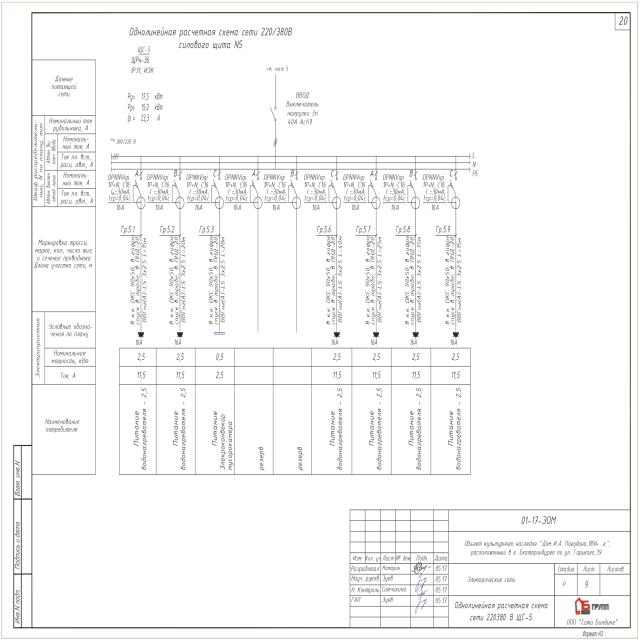-: (285, 89, 319, 128), (223, 172, 250, 210), (146, 172, 172, 210), (302, 172, 328, 210), (422, 172, 448, 210), (382, 172, 408, 210), (262, 172, 288, 210), (106, 173, 132, 211), (184, 172, 210, 210), (342, 172, 368, 210), (130, 45, 154, 76)
QFD: (211, 177, 225, 210), (171, 176, 185, 209), (288, 176, 302, 209), (132, 177, 146, 210), (328, 176, 342, 209), (447, 176, 461, 209), (250, 177, 263, 210), (368, 177, 381, 210), (407, 177, 420, 210)
QW: (269, 106, 279, 148)
